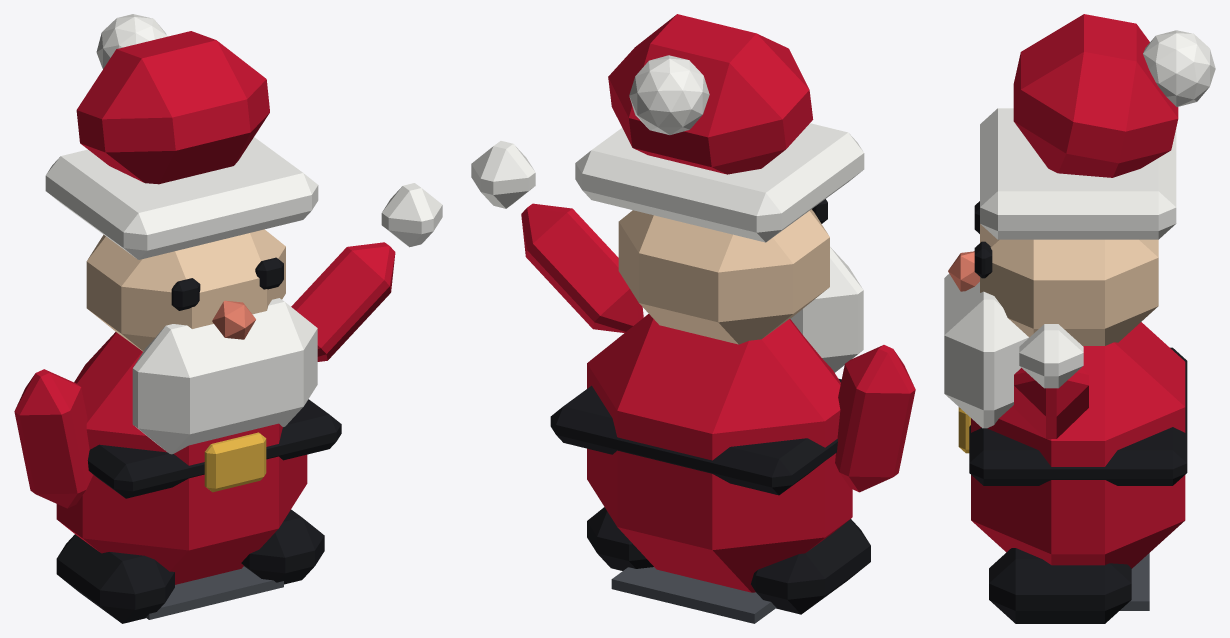
File: inflatable_santa.glb
3 views of the same model, side by side, from view 1: azimuth 30°, elevation 25°; view 2: azimuth 150°, elevation 25°; view 3: azimuth 270°, elevation 25° (orthographic). The views are drawn at different scales.
Visible parts, largest first — view 1: inflatable_santa; view 2: inflatable_santa; view 3: inflatable_santa.
Boxes of the visible parts, x1,y1,x2,y2 form: inflatable_santa: [14, 14, 442, 623]; inflatable_santa: [471, 14, 915, 623]; inflatable_santa: [944, 14, 1215, 623].
Size of the model in its own units: 2.79 by 3.37 by 1.52.
